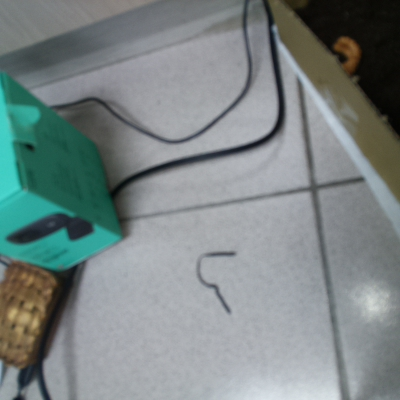eggs: (328, 27, 367, 80)
